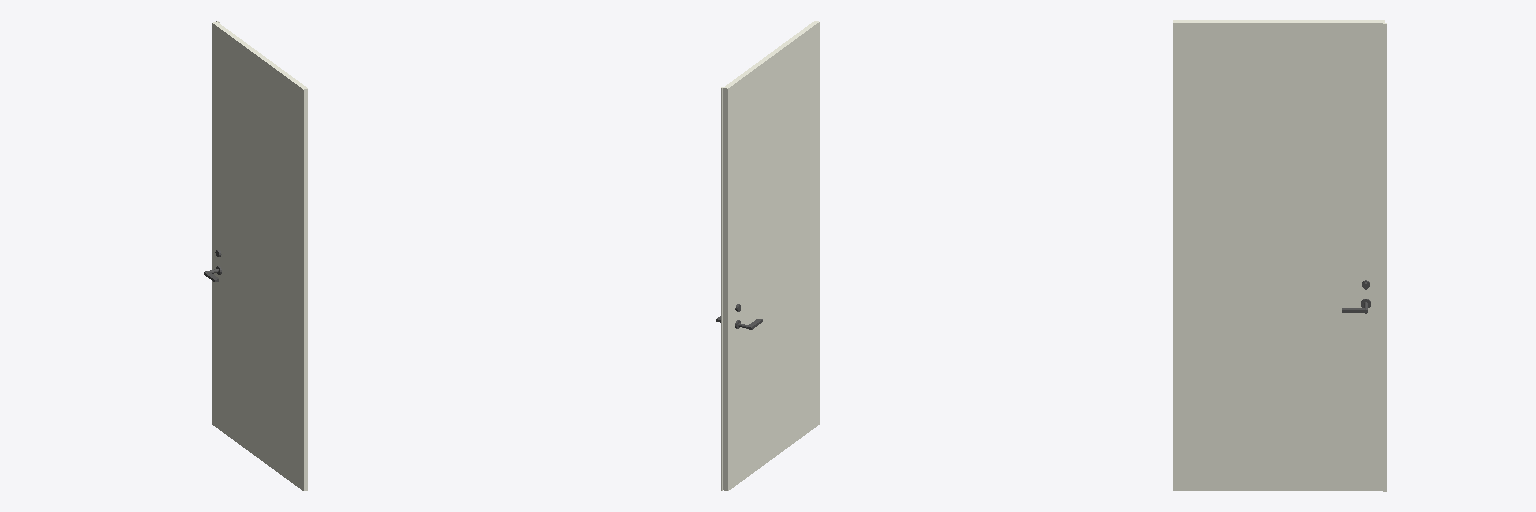
robot.urdf — akiba-door:
<?xml version="1.0"?>
<robot name="akiba-door"
       xmlns:xi="http://www.w3.org/2001/XInclude"
       >
  <gazebo>
    <static>false</static>
  </gazebo>
  <link name="AKIBA-DOOR-BODYSET2_link">
    <visual>
      <origin xyz="0 0 0" rpy="0 -0 0"/>
      <geometry>
        <mesh filename="model://akiba-door/meshes/AKIBA-DOOR-BODYSET2_link_mesh.dae" scale="1 1 1" />
      </geometry>
    </visual>
    <collision>
      <origin xyz="0 0 0" rpy="0 -0 0"/>
      <geometry>
        <mesh filename="model://akiba-door/meshes/AKIBA-DOOR-BODYSET2_link_mesh.dae" scale="1 1 1" />
      </geometry>
    </collision>
    <inertial>
      <mass value="0.001" />
      <origin xyz="0 0 0" rpy="0 -0 0"/>
      <inertia ixx="1e-03" ixy="0" ixz="0" iyy="1e-03" iyz="0" izz="1e-03"/>
    </inertial>
  </link>
  <gazebo reference="AKIBA-DOOR-BODYSET2_link">
    <mu1>0.9</mu1>
    <mu2>0.9</mu2>
  </gazebo>
  <link name="AKIBA-DOOR-BODYSET3_link">
    <visual>
      <origin xyz="-0.015 -0.48 0" rpy="0 -0 0"/>
      <geometry>
        <mesh filename="model://akiba-door/meshes/AKIBA-DOOR-BODYSET3_link_mesh.dae" scale="1 1 1" />
      </geometry>
    </visual>
    <collision>
      <origin xyz="-0.015 -0.48 0" rpy="0 -0 0"/>
      <geometry>
        <mesh filename="model://akiba-door/meshes/AKIBA-DOOR-BODYSET3_link_mesh.dae" scale="1 1 1" />
      </geometry>
    </collision>
    <inertial>
      <mass value="0.001" />
      <origin xyz="0 0 0" rpy="0 -0 0"/>
      <inertia ixx="1e-03" ixy="0" ixz="0" iyy="1e-03" iyz="0" izz="1e-03"/>
    </inertial>
  </link>
  <gazebo reference="AKIBA-DOOR-BODYSET3_link">
    <mu1>0.9</mu1>
    <mu2>0.9</mu2>
  </gazebo>
  <link name="AKIBA-DOOR-BODYSET5_link">
    <visual>
      <origin xyz="0.09 0.885 0.96" rpy="0 -0 0"/>
      <geometry>
        <mesh filename="model://akiba-door/meshes/AKIBA-DOOR-BODYSET5_link_mesh.dae" scale="1 1 1" />
      </geometry>
    </visual>
    <collision>
      <origin xyz="0.09 0.885 0.96" rpy="0 -0 0"/>
      <geometry>
        <mesh filename="model://akiba-door/meshes/AKIBA-DOOR-BODYSET5_link_mesh.dae" scale="1 1 1" />
      </geometry>
    </collision>
    <inertial>
      <mass value="0.001" />
      <origin xyz="0 0 0" rpy="0 -0 0"/>
      <inertia ixx="1e-03" ixy="0" ixz="0" iyy="1e-03" iyz="0" izz="1e-03"/>
    </inertial>
  </link>
  <gazebo reference="AKIBA-DOOR-BODYSET5_link">
    <mu1>0.9</mu1>
    <mu2>0.9</mu2>
  </gazebo>
  <link name="AKIBA-DOOR-BODYSET4_link">
    <visual>
      <origin xyz="0.03 0.885 1.06" rpy="0 -0 0"/>
      <geometry>
        <mesh filename="model://akiba-door/meshes/AKIBA-DOOR-BODYSET4_link_mesh.dae" scale="1 1 1" />
      </geometry>
    </visual>
    <collision>
      <origin xyz="0.03 0.885 1.06" rpy="0 -0 0"/>
      <geometry>
        <mesh filename="model://akiba-door/meshes/AKIBA-DOOR-BODYSET4_link_mesh.dae" scale="1 1 1" />
      </geometry>
    </collision>
    <inertial>
      <mass value="0.001" />
      <origin xyz="-0.09 -0.885 -0.96" rpy="0 -0 0"/>
      <inertia ixx="1e-03" ixy="0" ixz="0" iyy="1e-03" iyz="0" izz="1e-03"/>
    </inertial>
  </link>
  <gazebo reference="AKIBA-DOOR-BODYSET4_link">
    <mu1>0.9</mu1>
    <mu2>0.9</mu2>
  </gazebo>
  <joint name="DOOR" type="revolute">
    <parent link="AKIBA-DOOR-BODYSET2_link"/>
    <child  link="AKIBA-DOOR-BODYSET3_link"/>
    <origin xyz="-0.015 -0.48 0" rpy="0 -0 0 "/>
    <axis   xyz="0 0 -1"/>
    <limit lower="0" upper="1.5708" effort="100" velocity="0.5" />
    <dynamics damping="0.2" friction="0" />
  </joint>
  <transmission type="pr2_mechanism_model/SimpleTransmission" name="DOOR_trans" >
    <actuator name="DOOR_motor" />
    <joint name="DOOR" />
    <mechanicalReduction>1</mechanicalReduction>
  </transmission>
  <gazebo reference="DOOR">
    <cfmDamping>0.4</cfmDamping>
  </gazebo>
  <joint name="KNOB" type="revolute">
    <parent link="AKIBA-DOOR-BODYSET3_link"/>
    <child  link="AKIBA-DOOR-BODYSET5_link"/>
    <origin xyz="0.09 0.885 0.96" rpy="0 -0 0 "/>
    <axis   xyz="1 0 0"/>
    <limit lower="0" upper="1.5708" effort="100" velocity="0.5" />
    <dynamics damping="0.2" friction="0" />
  </joint>
  <transmission type="pr2_mechanism_model/SimpleTransmission" name="KNOB_trans" >
    <actuator name="KNOB_motor" />
    <joint name="KNOB" />
    <mechanicalReduction>1</mechanicalReduction>
  </transmission>
  <gazebo reference="KNOB">
    <cfmDamping>0.4</cfmDamping>
  </gazebo>
  <joint name="LOCK" type="revolute">
    <parent link="AKIBA-DOOR-BODYSET5_link"/>
    <child  link="AKIBA-DOOR-BODYSET4_link"/>
    <origin xyz="0.03 0.885 1.06" rpy="0 -0 0 "/>
    <axis   xyz="1 0 0"/>
    <limit lower="-1.5708" upper="0" effort="100" velocity="0.5" />
    <dynamics damping="0.2" friction="0" />
  </joint>
  <transmission type="pr2_mechanism_model/SimpleTransmission" name="LOCK_trans" >
    <actuator name="LOCK_motor" />
    <joint name="LOCK" />
    <mechanicalReduction>1</mechanicalReduction>
  </transmission>
  <gazebo reference="LOCK">
    <cfmDamping>0.4</cfmDamping>
  </gazebo>
</robot>

--- Render facts (derived) ---
3 views of the same robot in one strip: view 1: azimuth 30°, elevation 25°; view 2: azimuth 150°, elevation 25°; view 3: azimuth 270°, elevation 25° (orthographic).
Robot: akiba-door — 4 links, 3 joints (3 revolute); root link AKIBA-DOOR-BODYSET2_link; default pose: every joint at zero.
Links seen in each view (by area): view 1: AKIBA-DOOR-BODYSET3_link; view 2: AKIBA-DOOR-BODYSET3_link; view 3: AKIBA-DOOR-BODYSET3_link.
Link boxes in pixels (x1,y1,x2,y2): AKIBA-DOOR-BODYSET3_link: [212, 21, 307, 490]; AKIBA-DOOR-BODYSET3_link: [721, 21, 819, 490]; AKIBA-DOOR-BODYSET3_link: [1173, 20, 1386, 491].
Bounding box of the posed robot: 0.22 × 1 × 2.4 m (x, y, z).
Meshes: 4 distinct files referenced, 4 mesh visuals loaded (4 Collada DAE).